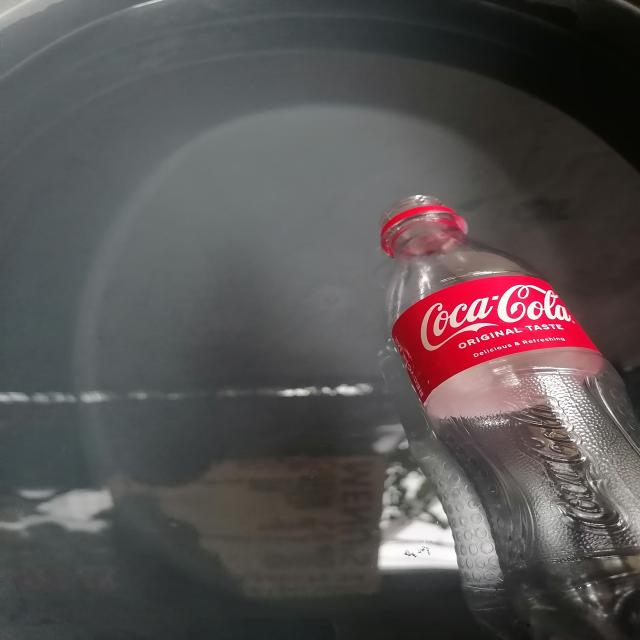Plastic Bottle: (380, 195, 640, 640)
